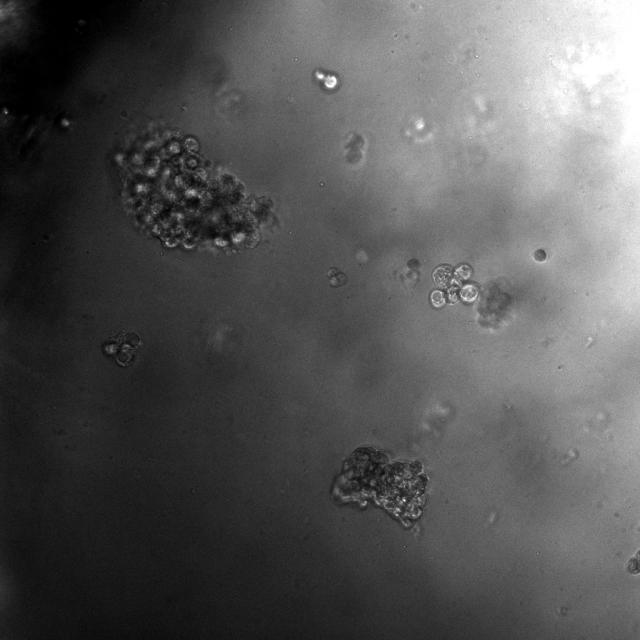organoid: (114, 122, 271, 252), (332, 446, 428, 527), (429, 263, 479, 308), (477, 281, 512, 329), (101, 329, 141, 367), (313, 67, 341, 93), (327, 267, 346, 287), (532, 247, 548, 262), (406, 257, 420, 269)
